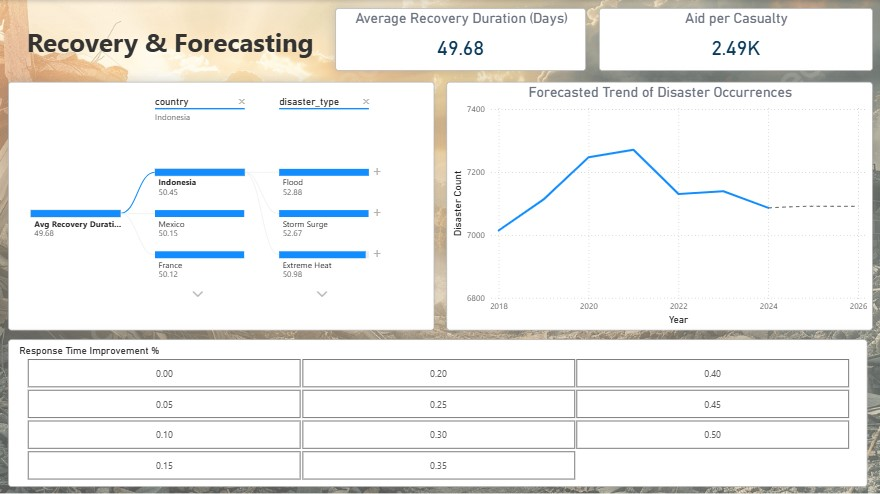

What the dashboard file says about the page in this screenshot:
{"tool":"powerbi","page":{"name":"Recovery & Forecasting","canvas":[1280,720],"ordinal":4},"visuals":[{"type":"card","title":"Average Recovery Duration (Days)","fields":{"Values":["Disasters_Table.Avg Recovery Duration (days)"]},"box":[489,11.7,363,90.7],"z":0},{"type":"card","title":"Aid per Casualty","fields":{"Values":["Disasters_Table.Aid per Casualty"]},"box":[871,11.7,396.7,90.8],"z":1000},{"type":"decompositionTreeVisual","fields":{"Analyze":["Disasters_Table.Avg Recovery Duration"],"ExplainBy":["Disasters_Table.country","Disasters_Table.disaster_type","Disasters_Table.severity_index","Disasters_Table.casualties","Disasters_Table.aid_amount_usd","Disasters_Table.response_time_hours"]},"box":[15.3,118.6,618,359.9],"z":2000},{"type":"lineChart","title":"Forecasted Trend of Disaster Occurrences","fields":{"Category":["Disasters_Table.Year"],"Y":["Disasters_Table.Disaster Count"]},"box":[650.1,118.6,618,359.9],"z":3000},{"type":"slicer","fields":{"Values":["Response Time Improvement %.Response Time Improvement %"]},"box":[15.3,492.5,1245.8,213.4],"z":4000},{"type":"textbox","box":[30.7,29.3,437.7,73.2],"z":5000}]}

Visuals, with their boxes in screenshot pixels (x1, y1, x2, y2), scaled from the page's 1280x720 canvas onto the 880x494 screenshot:
"Average Recovery Duration (Days)" card: bbox=(336, 8, 586, 70)
"Aid per Casualty" card: bbox=(599, 8, 872, 70)
decompositionTreeVisual - Disasters_Table.Avg Recovery Duration x Disasters_Table.country: bbox=(11, 81, 435, 328)
"Forecasted Trend of Disaster Occurrences" lineChart: bbox=(447, 81, 872, 328)
slicer - Response Time Improvement %.Response Time Improvement %: bbox=(11, 338, 867, 484)
textbox: bbox=(21, 20, 322, 70)
